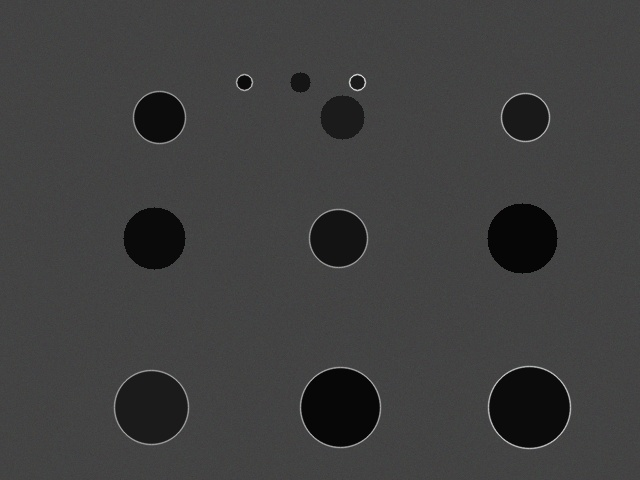hole: (488, 366, 570, 448), (300, 367, 380, 447), (114, 370, 188, 444), (487, 203, 557, 273), (123, 207, 185, 269), (309, 209, 367, 267), (133, 91, 185, 143), (501, 93, 549, 141), (320, 95, 364, 139), (290, 72, 310, 92), (236, 74, 252, 90), (349, 74, 365, 90)
